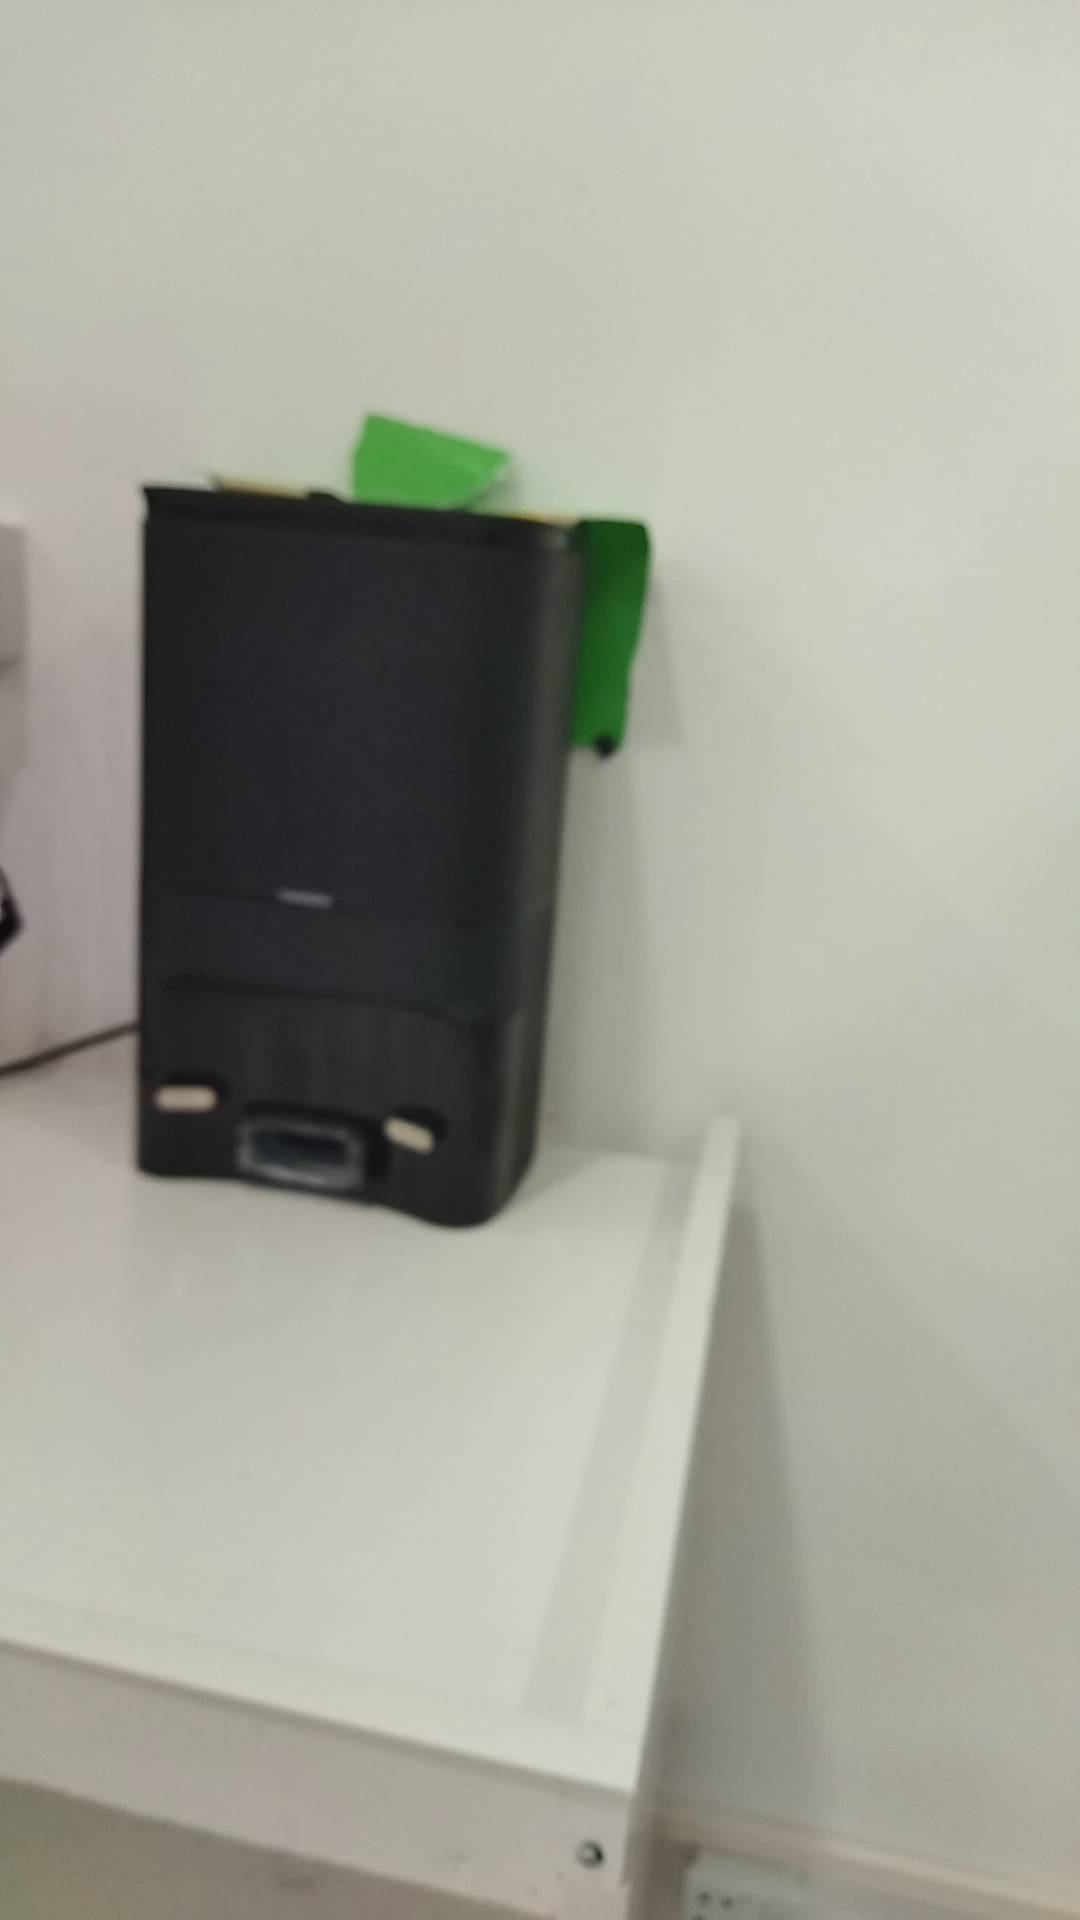dust collecting barrel: (133, 483, 585, 1230)
